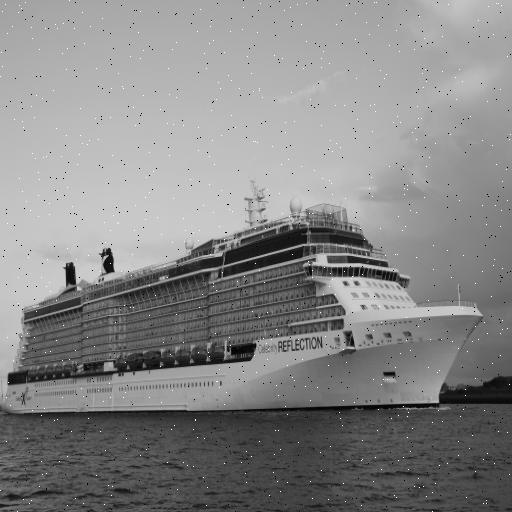cruises: (1, 178, 488, 425)
